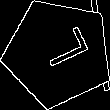L_SW: (29, 28, 88, 77)
